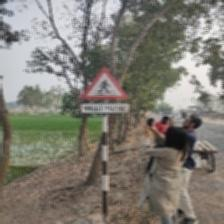Pedestrian-crossing: (79, 66, 130, 116)
